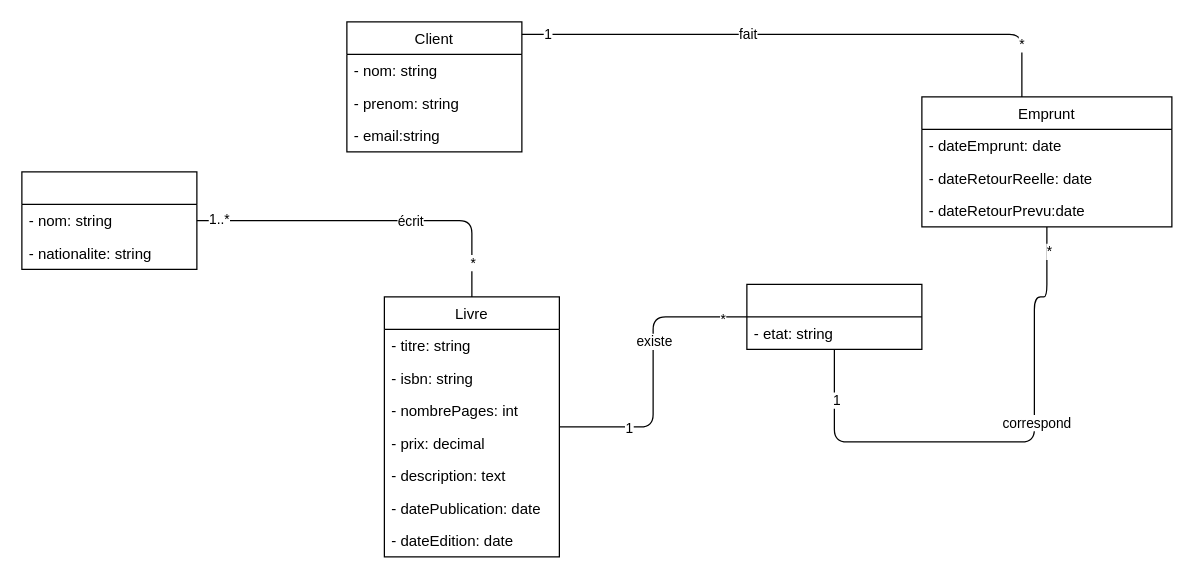
Some shapes in this 1194 by 583 pixel diagram are drawn without their labels. The box of each missing label's shape, as (x1, y1, x2, y2) in pixels:
Auteur: (21, 171, 197, 269)
Exemplaire: (746, 283, 922, 349)
